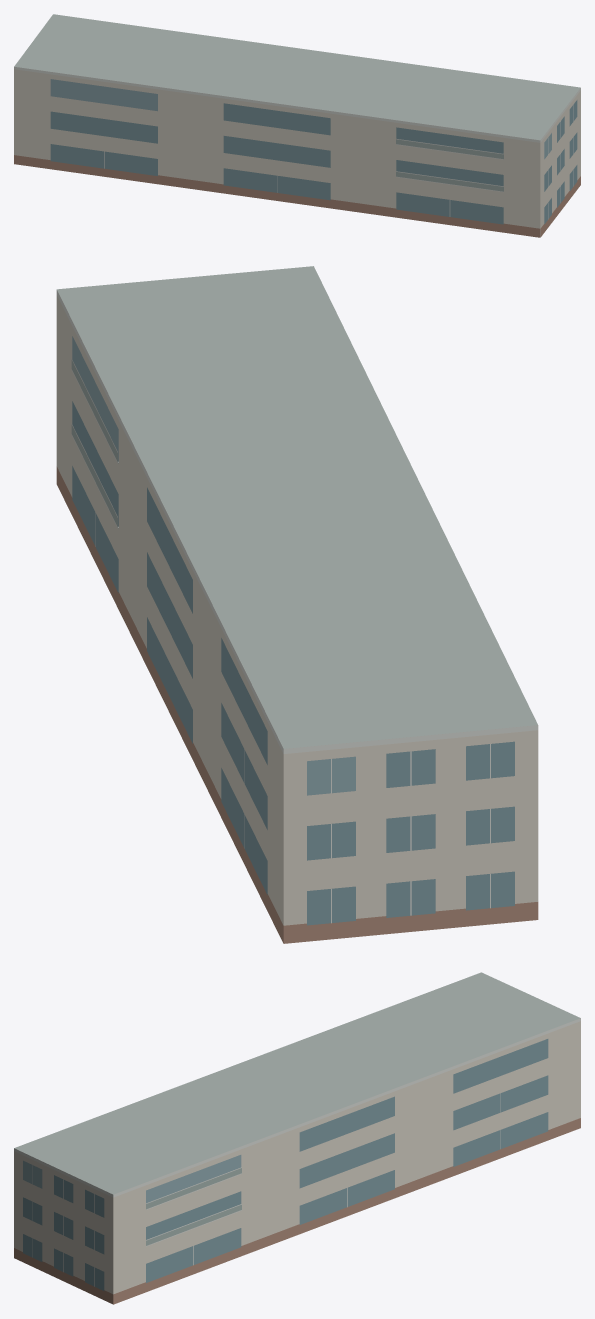
The model's file is survey-upis-32737717.glb.
3 renders of one model, top to bottom at view 1: azimuth 30°, elevation 25°; view 2: azimuth 150°, elevation 25°; view 3: azimuth 270°, elevation 25°, orthographic. The views are drawn at different scales.
Visible parts, largest first — view 1: survey-upis-32737717.tmp; view 2: survey-upis-32737717.tmp; view 3: survey-upis-32737717.tmp.
Boxes of the visible parts, x1=… form: survey-upis-32737717.tmp: x1=14, y1=14, x2=580, y2=237; survey-upis-32737717.tmp: x1=56, y1=266, x2=538, y2=943; survey-upis-32737717.tmp: x1=14, y1=972, x2=580, y2=1304.
Size of the model in its own units: 39.7 by 9.15 by 42.77.
